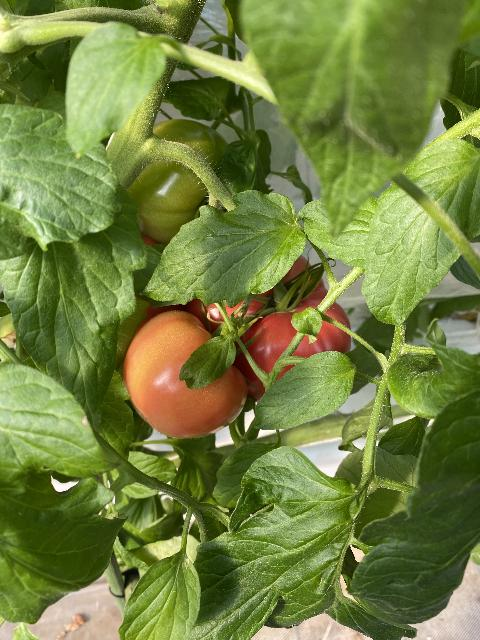b_fully_ripened: (184, 254, 352, 402)
b_green: (125, 119, 230, 245)
b_half_ripened: (122, 309, 249, 438)
